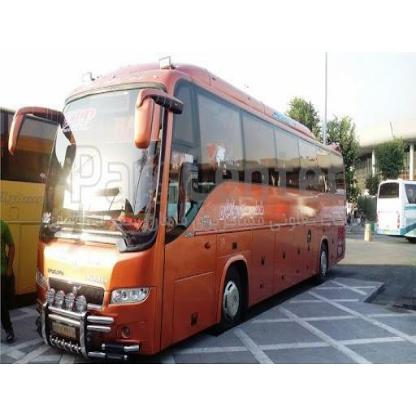Bus: (13, 48, 352, 367), (369, 170, 416, 243)
